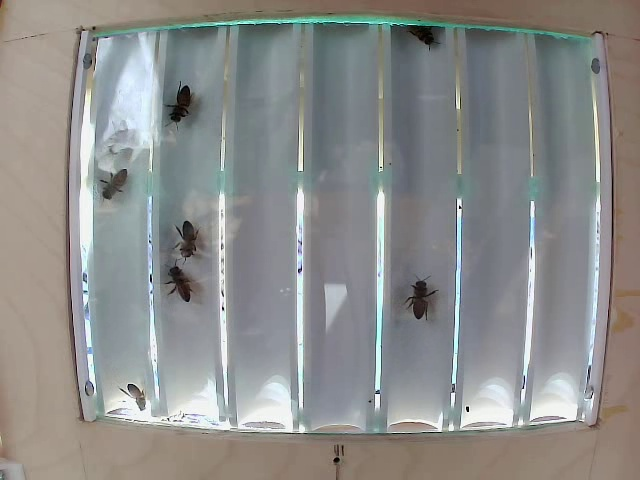bee: (407, 267, 442, 324), (158, 265, 199, 311), (172, 215, 209, 263), (99, 159, 135, 208), (166, 77, 201, 124)
